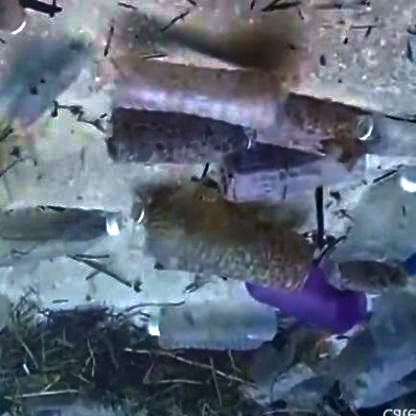pbottle: (102, 178, 312, 298), (84, 96, 253, 180), (108, 53, 277, 134), (116, 292, 283, 365), (313, 148, 416, 262), (257, 250, 377, 336), (340, 282, 416, 395), (4, 203, 131, 265), (341, 96, 416, 166)
